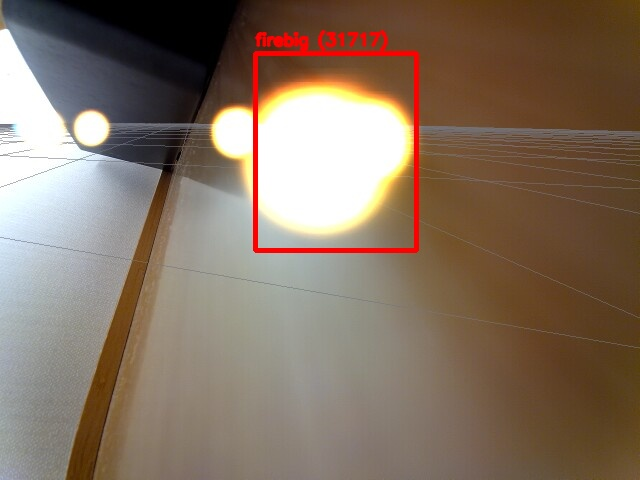firebig: (255, 53, 416, 250)
